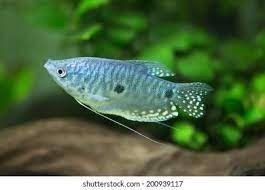Gourami: (44, 58, 214, 148)
